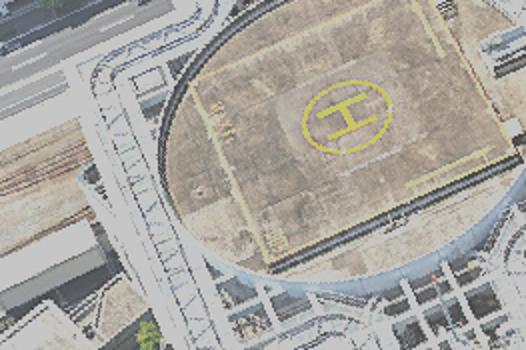Apron: (318, 88, 378, 146)
